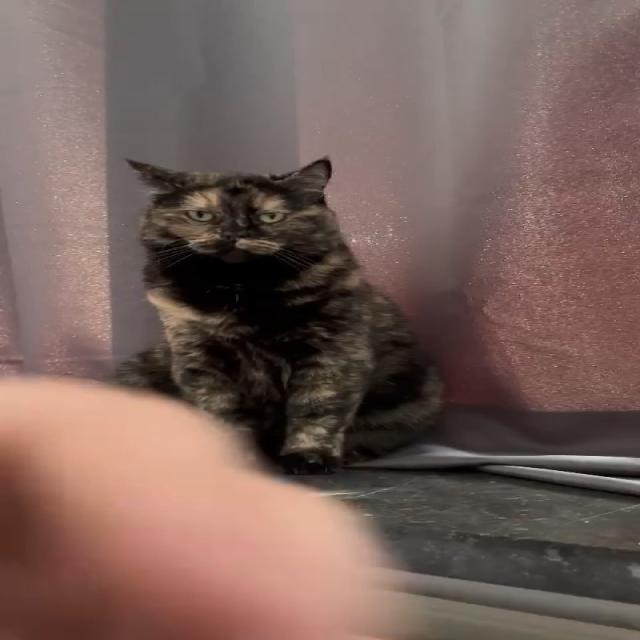authorized: (114, 154, 447, 475)
